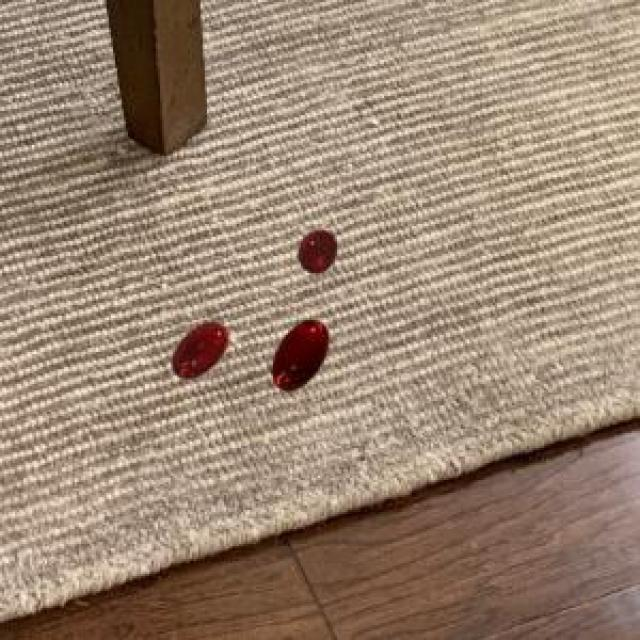Medicol: (266, 310, 346, 406), (159, 312, 237, 392), (289, 221, 352, 277)
